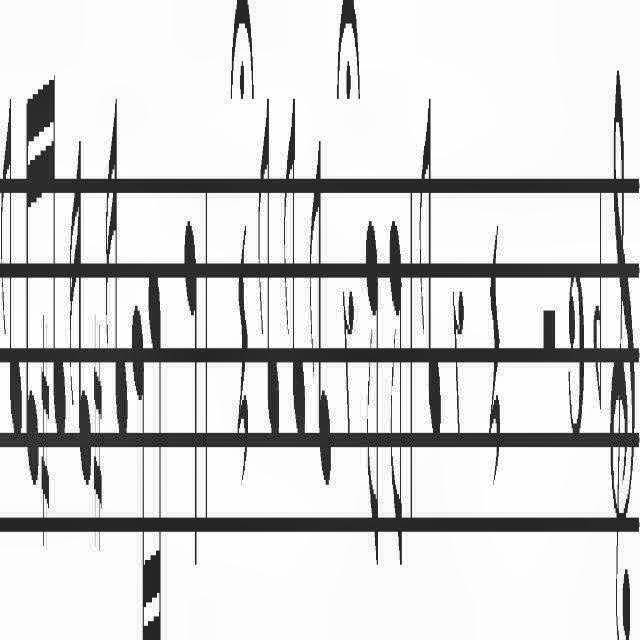Bass-clef: (607, 28, 637, 640)
Bemol: (591, 167, 605, 435)
Diez: (92, 300, 104, 548), (40, 303, 50, 569)
Eighth-note: (308, 124, 334, 502), (256, 75, 280, 469), (418, 96, 442, 454), (1, 72, 23, 460), (386, 192, 406, 600), (284, 66, 304, 474), (364, 168, 381, 628)
Eighth-rest: (448, 278, 468, 470), (340, 256, 356, 462)
Quarter-note: (178, 195, 202, 612)
Quarter-rest: (484, 185, 506, 587), (232, 189, 254, 499)
Sixteenth-note: (105, 88, 128, 472), (68, 149, 92, 499), (24, 48, 38, 520), (148, 240, 164, 640), (131, 268, 147, 640), (50, 78, 66, 440)
